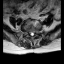CCS_normal: (31, 28, 33, 37)
LFS_stenosis: (35, 28, 37, 35)
LLS_normal: (33, 28, 35, 36)
RFS_severe_stenosis: (27, 29, 29, 36)
RLS_normal: (29, 29, 31, 37)
